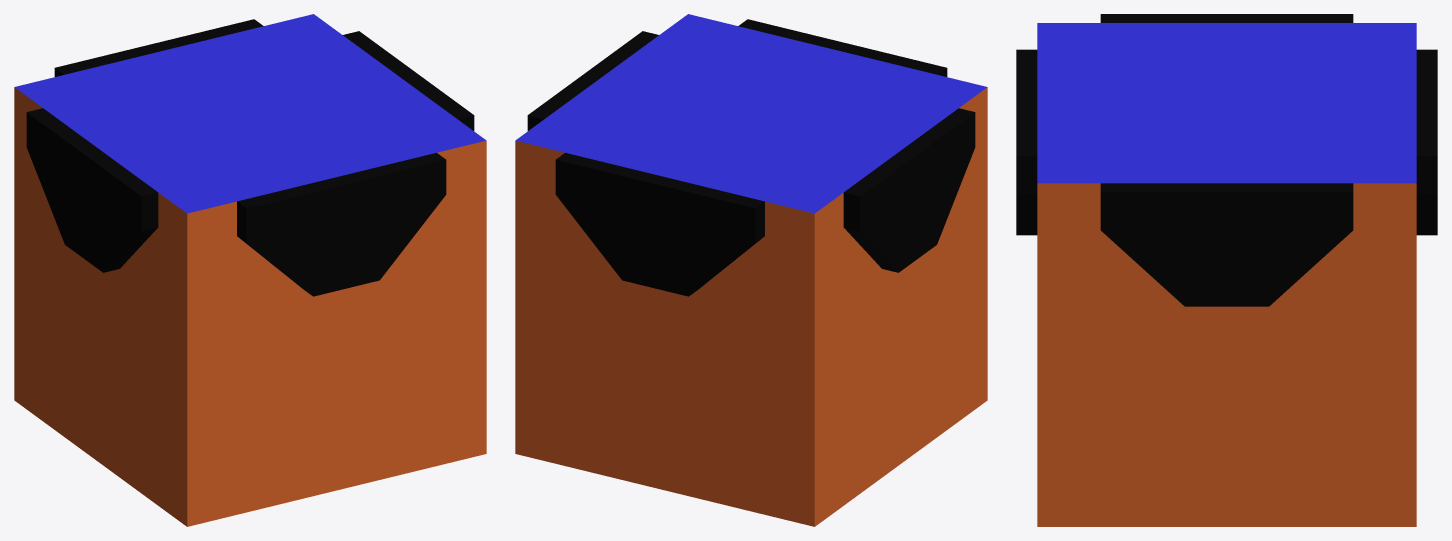
The model's file is Body.fbx.
3 views of the same model, side by side, from view 1: azimuth 30°, elevation 25°; view 2: azimuth 150°, elevation 25°; view 3: azimuth 270°, elevation 25° (orthographic). The views are drawn at different scales.
Visible parts, largest first — view 1: Cube, Side4, Side2, Side1, Side3; view 2: Cube, Side3, Side2, Side1, Side4; view 3: Cube, Side1, Side3, Side4, Side2.
Part boxes in pixels (x1,y1,x2,y2): Cube: (14, 14, 486, 526); Side4: (237, 152, 446, 296); Side2: (26, 108, 158, 272); Side1: (343, 31, 474, 130); Side3: (54, 19, 263, 76); Cube: (515, 14, 987, 526); Side3: (555, 152, 764, 296); Side2: (843, 108, 975, 272); Side1: (527, 31, 658, 130); Side4: (738, 19, 947, 76); Cube: (1037, 23, 1416, 526); Side1: (1100, 183, 1353, 306); Side3: (1416, 49, 1437, 235); Side4: (1016, 49, 1037, 235); Side2: (1100, 14, 1353, 22).
Bounding box in the file's own units: 2000 × 1800 × 2000.
